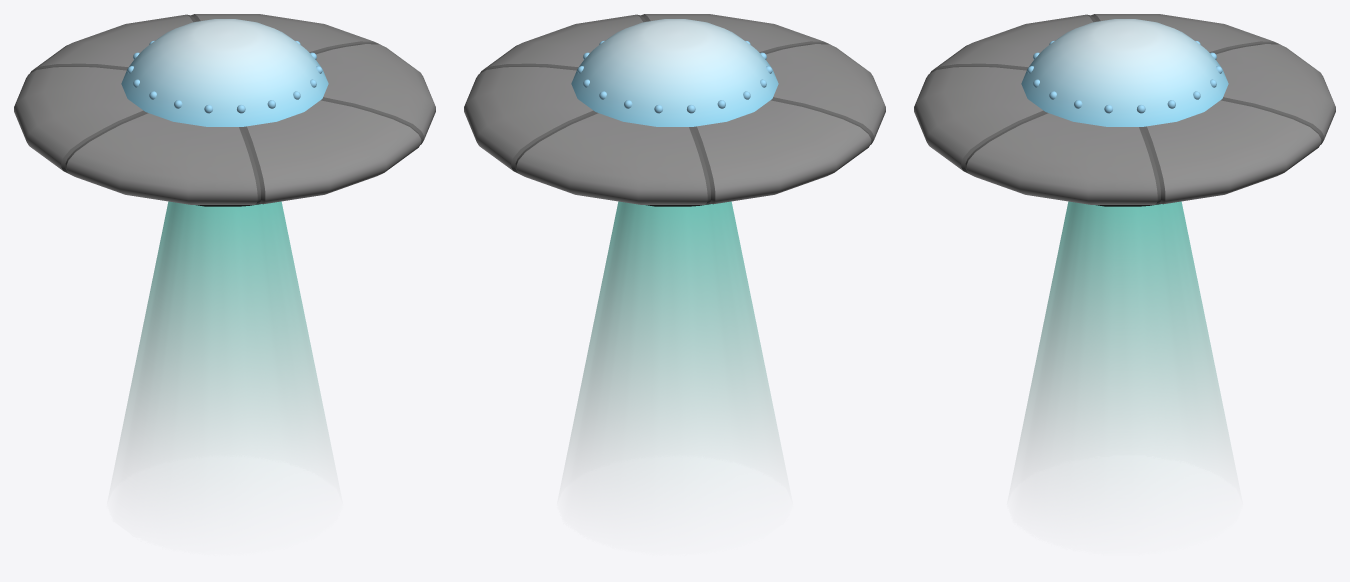
File: Farm_Easter_Egg_UFO_01.fbx
3 views of the same model, side by side, from view 1: azimuth 30°, elevation 25°; view 2: azimuth 150°, elevation 25°; view 3: azimuth 270°, elevation 25° (orthographic).
Visible parts, largest first — view 1: Farm_Easter_Egg_UFO_01; view 2: Farm_Easter_Egg_UFO_01; view 3: Farm_Easter_Egg_UFO_01.
Boxes of the visible parts, left/top/right/bottom form: Farm_Easter_Egg_UFO_01: left=14, top=14, right=435, bottom=483; Farm_Easter_Egg_UFO_01: left=464, top=14, right=885, bottom=484; Farm_Easter_Egg_UFO_01: left=914, top=14, right=1335, bottom=483.
Size of the model in its own units: 854 by 1100 by 867.
